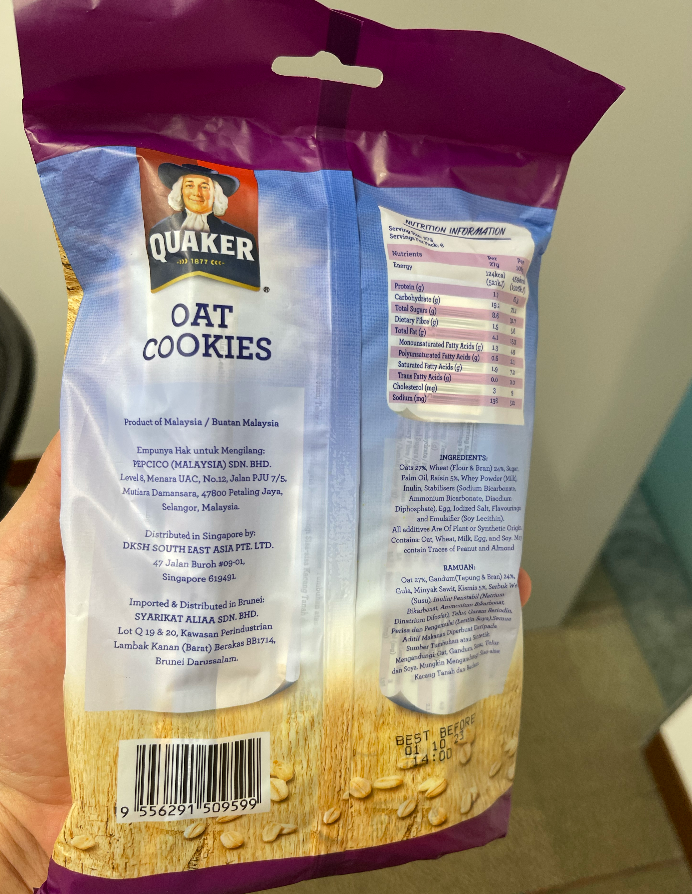cookies_100g-199g: (79, 112, 530, 851)
